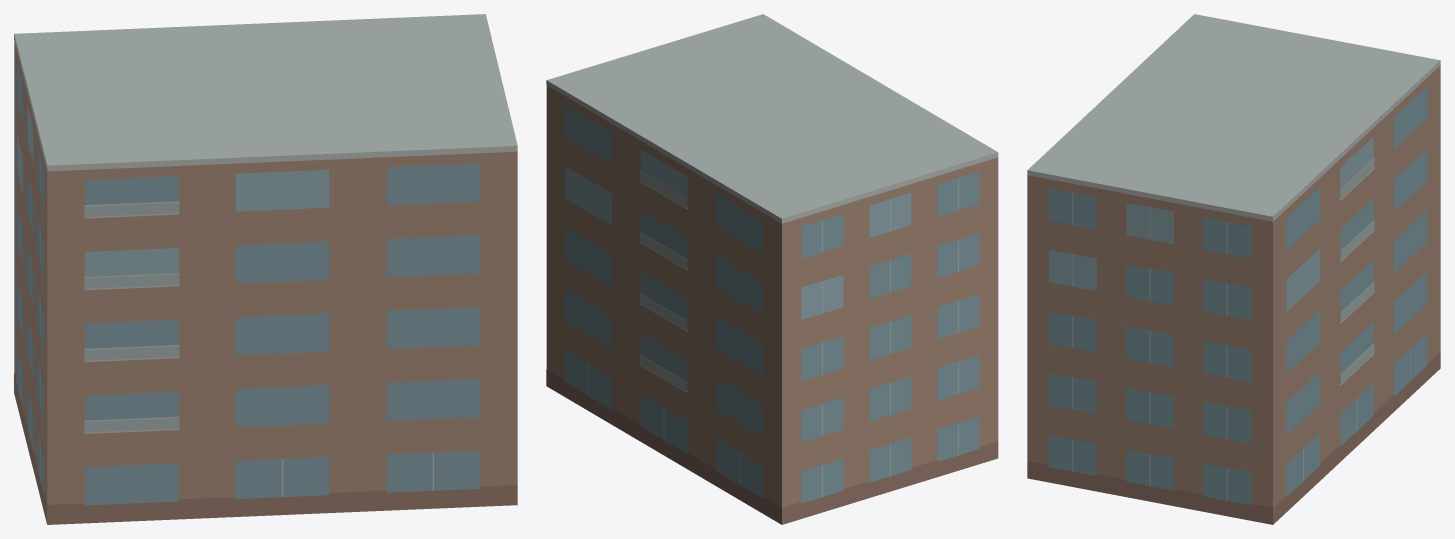
File: survey-upis-32903027.glb
3 renders of one model, left to right at view 1: azimuth 30°, elevation 25°; view 2: azimuth 150°, elevation 25°; view 3: azimuth 270°, elevation 25°, orthographic. The views are drawn at different scales.
Parts seen in each view (by area): view 1: survey-upis-32903027.tmp; view 2: survey-upis-32903027.tmp; view 3: survey-upis-32903027.tmp.
Part boxes in pixels (bbox=[...]): survey-upis-32903027.tmp: bbox=[14, 14, 517, 524]; survey-upis-32903027.tmp: bbox=[546, 14, 998, 524]; survey-upis-32903027.tmp: bbox=[1027, 14, 1440, 524].
Bounding box in the file's own units: 21.54 × 15.25 × 18.55.
